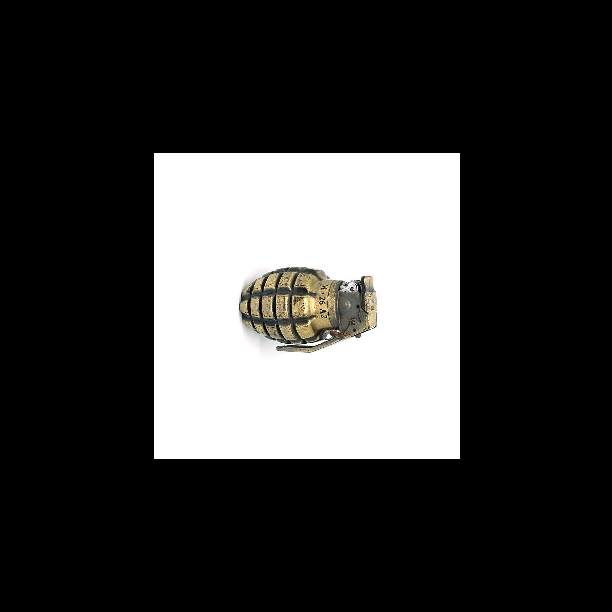e1: (237, 268, 380, 353)
